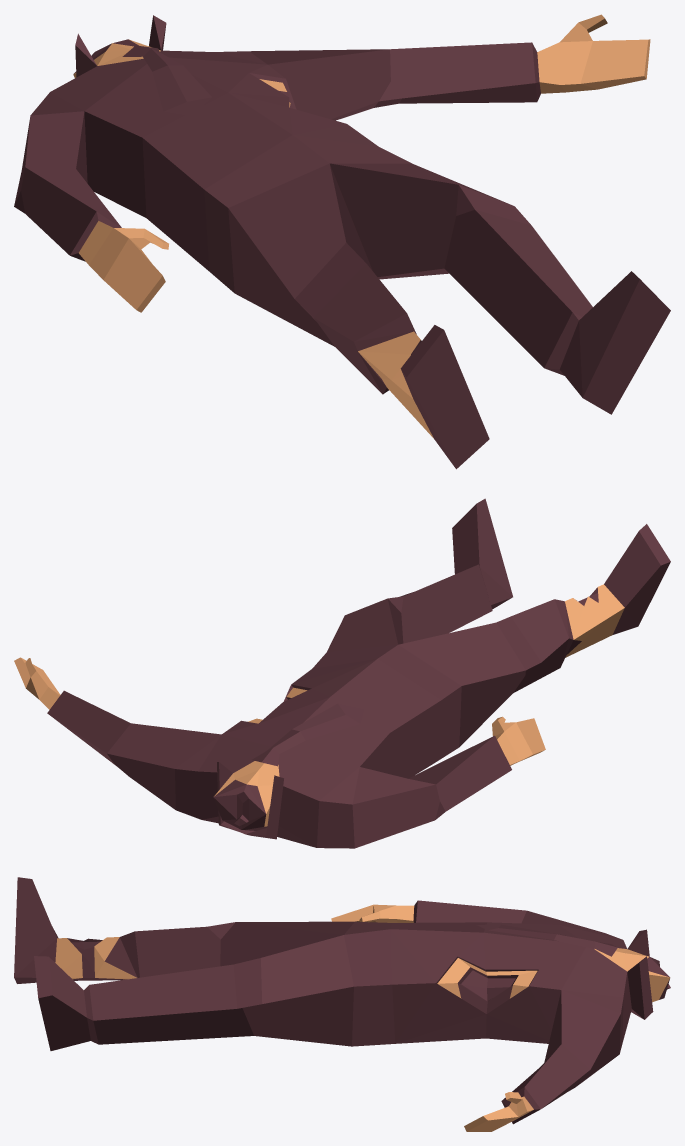
The model's file is man-tie-dead-b.fbx.
The picture shows the model from 3 angles, top to bottom: view 1: azimuth 30°, elevation 25°; view 2: azimuth 150°, elevation 25°; view 3: azimuth 270°, elevation 25°; orthographic projection. The views are drawn at different scales.
Visible parts, largest first — view 1: man-tie-dead-b; view 2: man-tie-dead-b; view 3: man-tie-dead-b.
Part boxes in pixels (bbox=[...]): man-tie-dead-b: bbox=[14, 14, 670, 469]; man-tie-dead-b: bbox=[14, 498, 670, 848]; man-tie-dead-b: bbox=[14, 877, 670, 1131].
Size of the model in its own units: 1.24 by 0.281 by 1.56.
